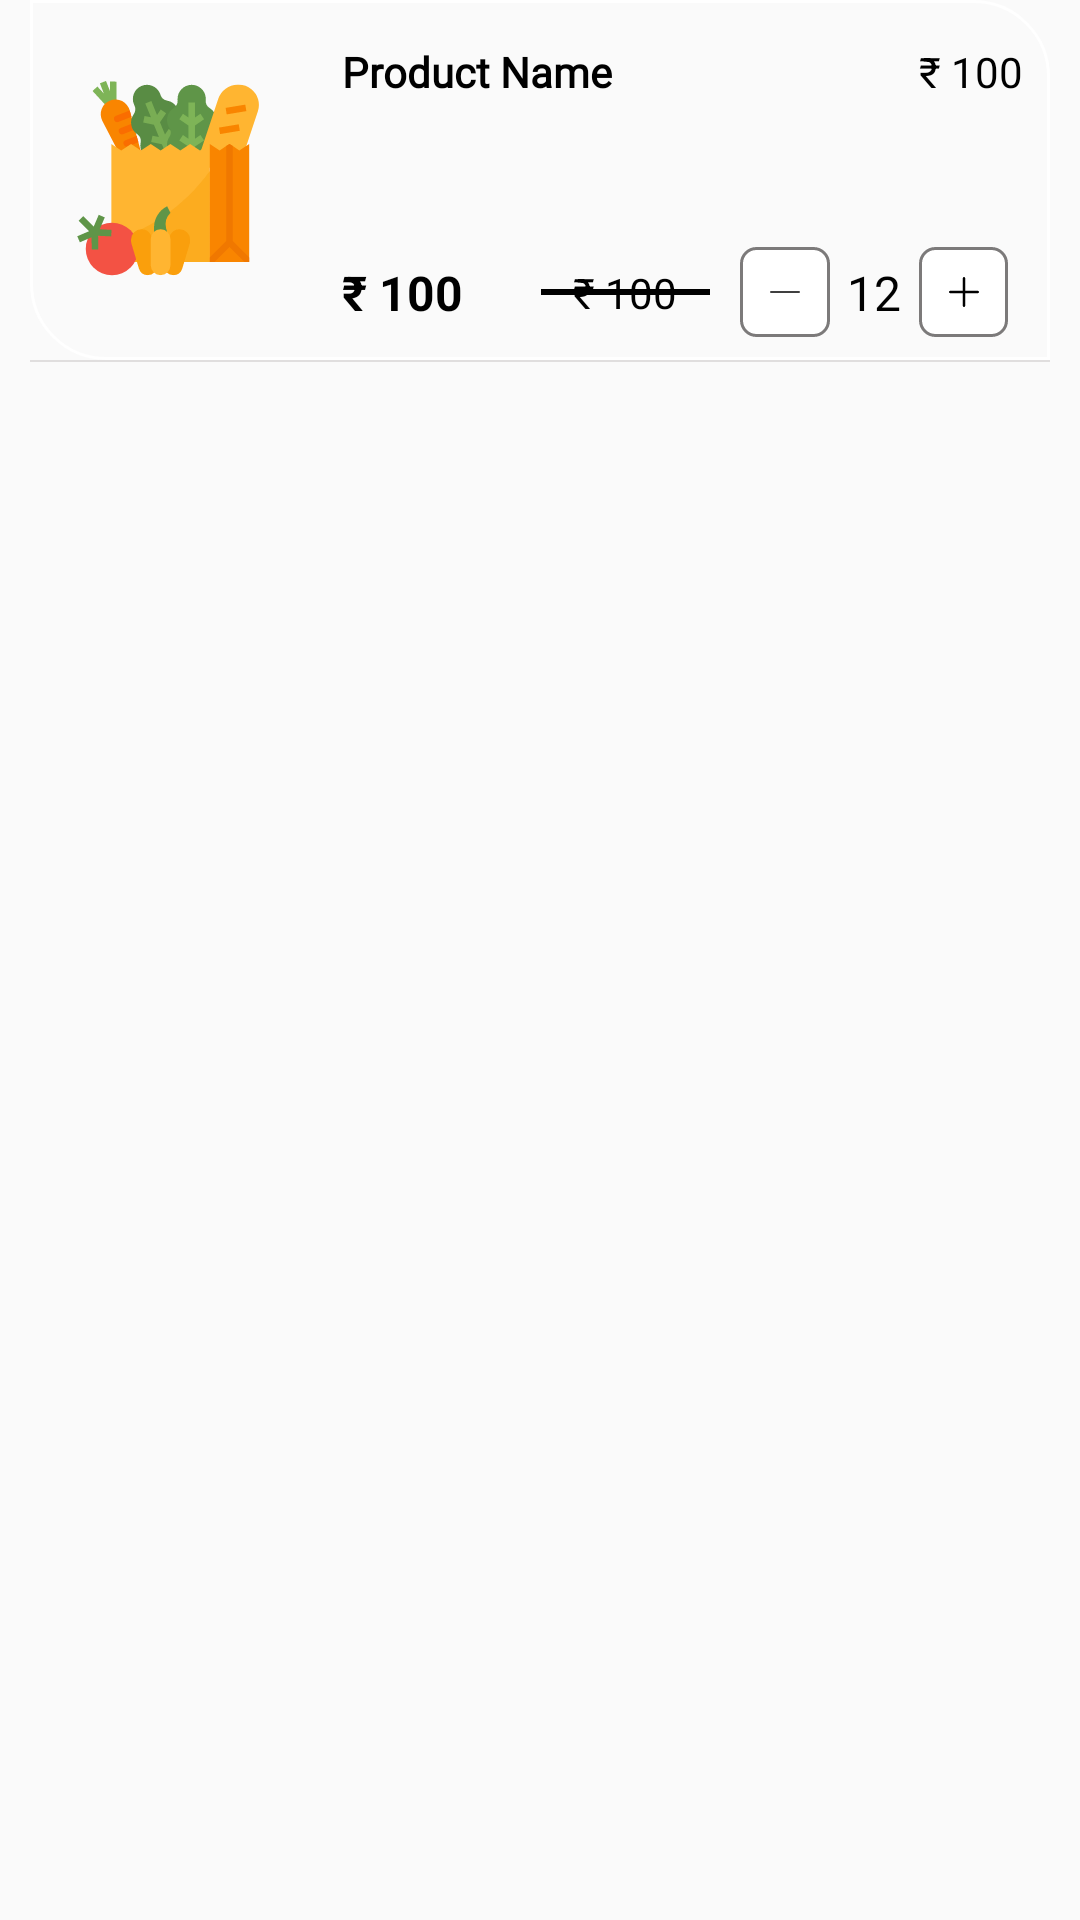

Named icons in this screenshot (1080x1920) and their bounding boxes, rect(x1, y1, x2, y2):
groceries: rect(77, 81, 259, 276)
minus: rect(740, 247, 830, 337)
plus: rect(919, 247, 1008, 337)
